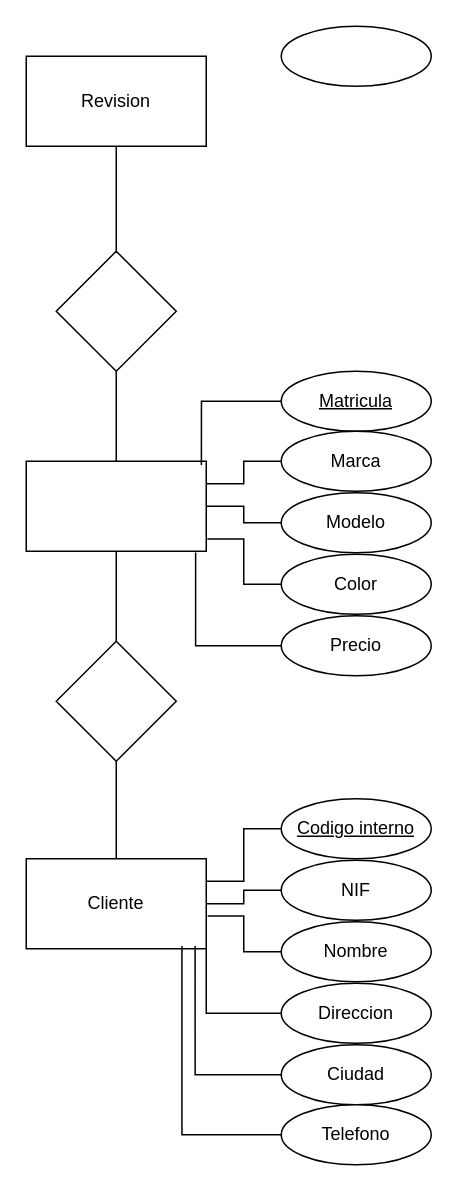
Image size: 458x1191. Some labels were removed from this diagram. The centre of each missing label's shape, as x and y in pixels:
"Coche" belongs at point (115, 505).
"Codigo" belongs at point (355, 55).
"compra" belongs at point (115, 700).
"pasa" belongs at point (115, 310).
